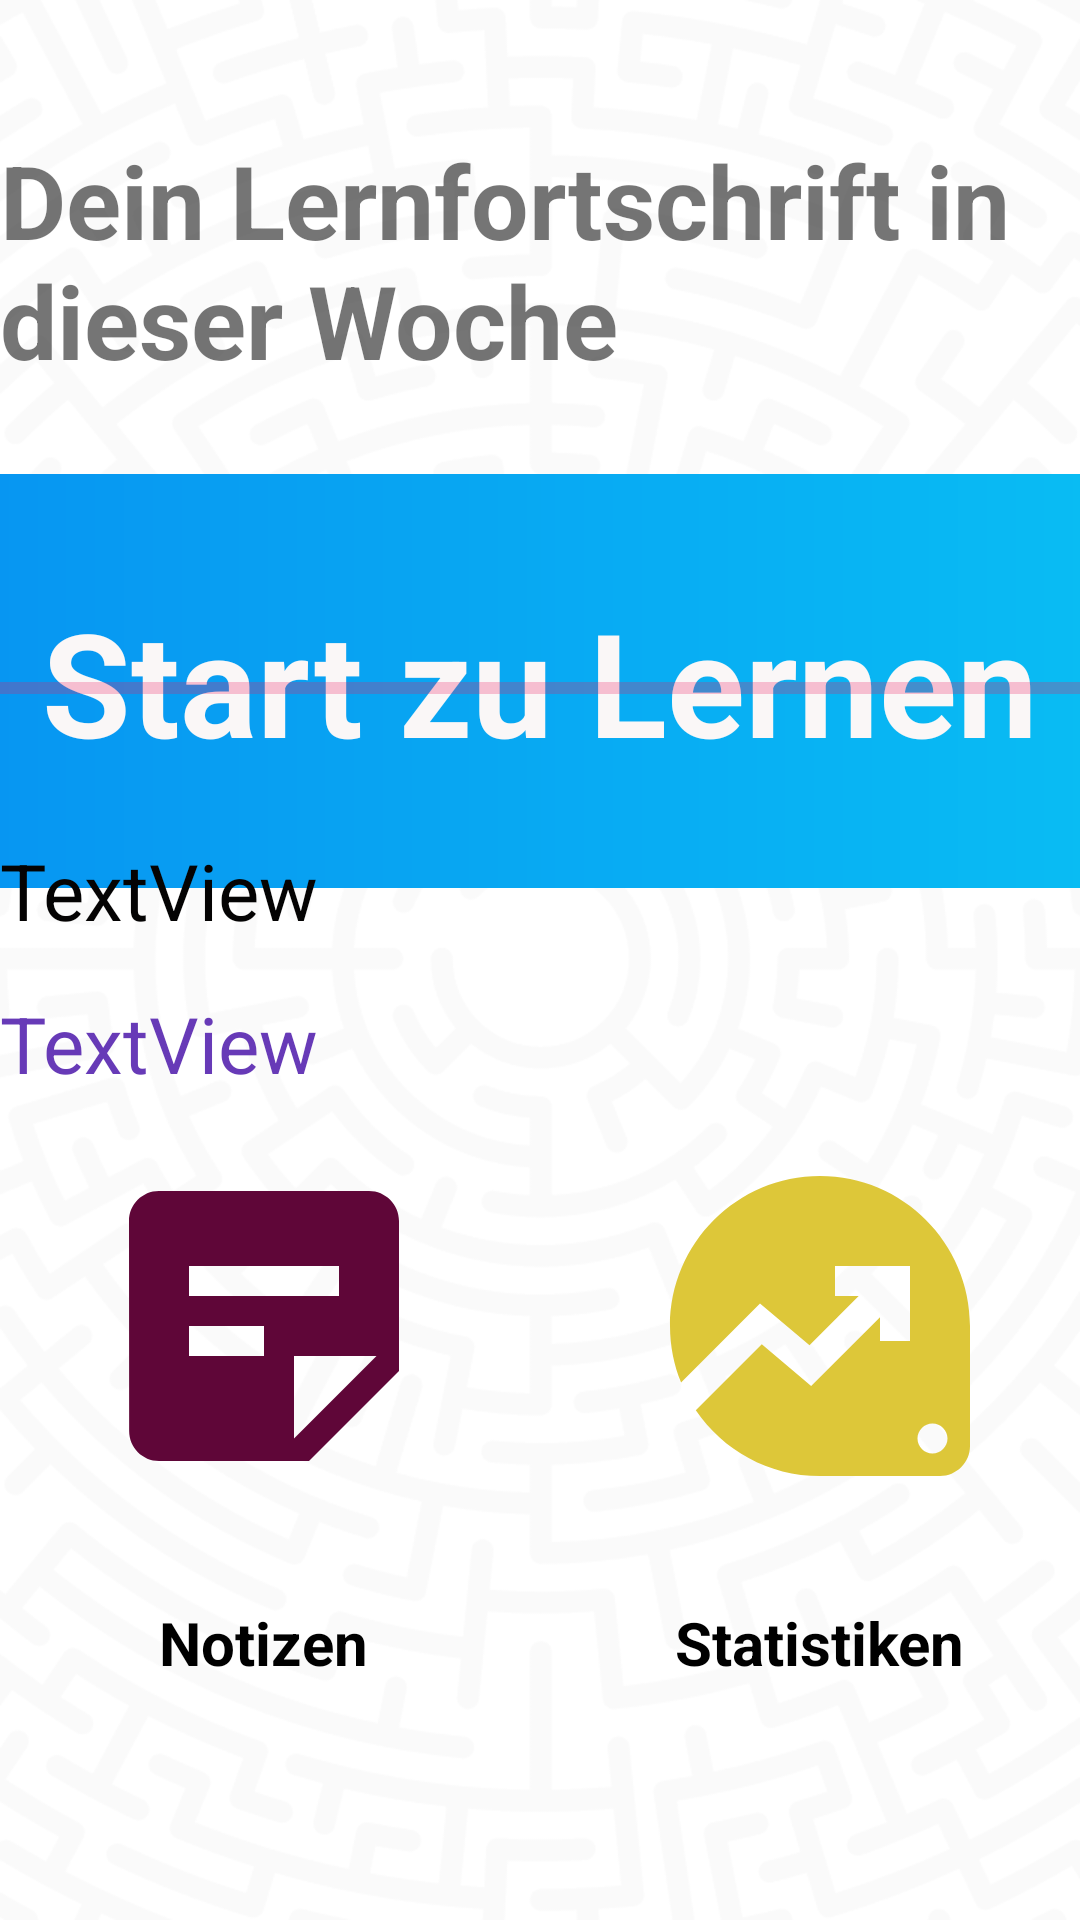

Where icons sit on this 1080 x 1920 app screen, as [left=x1, top=y1, right=x2, bottom=y2]:
notes: [left=129, top=1191, right=399, bottom=1461]
statistic: [left=670, top=1176, right=970, bottom=1476]
